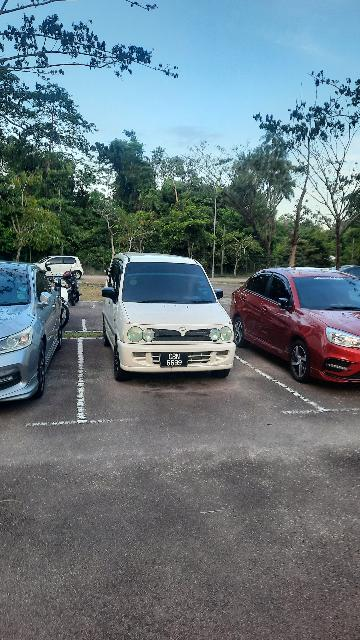License_Plate: (160, 353, 190, 368)
car: (100, 254, 238, 379)
